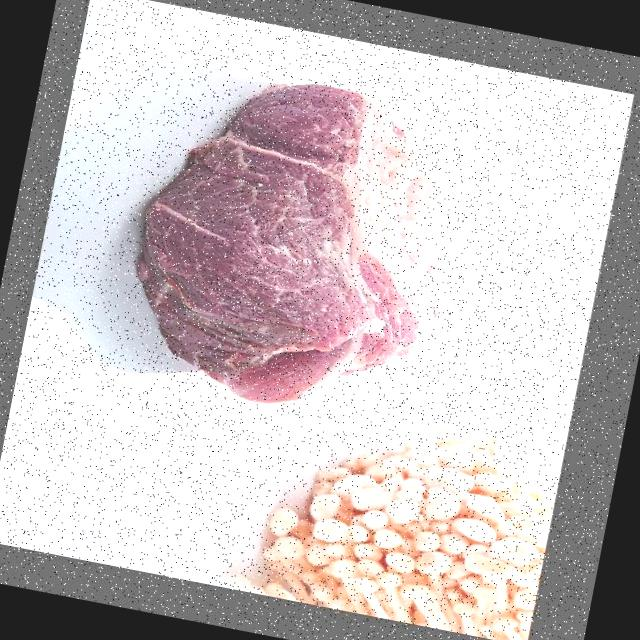pork: (111, 38, 488, 432)
